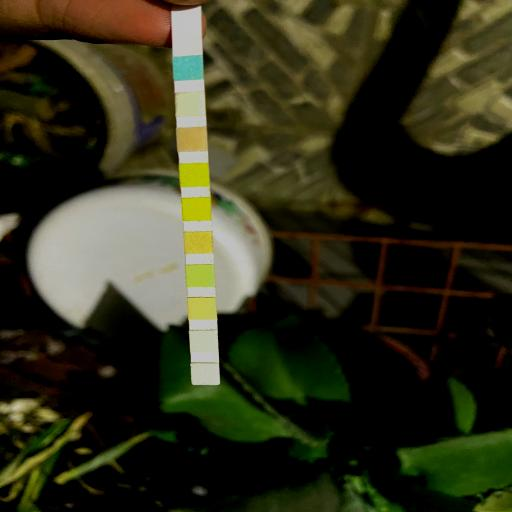Bilirubin: (176, 92, 205, 114)
Blood: (183, 198, 210, 220)
Glucose: (174, 58, 202, 80)
Ketone: (178, 128, 207, 150)
Leukocytes: (192, 364, 219, 384)
Nitrite: (190, 330, 217, 351)
Protein: (187, 266, 214, 286)
SpGravity: (180, 164, 209, 186)
Urobilinogen: (189, 298, 216, 318)
pH: (186, 232, 212, 253)
strip: (171, 7, 220, 386)
